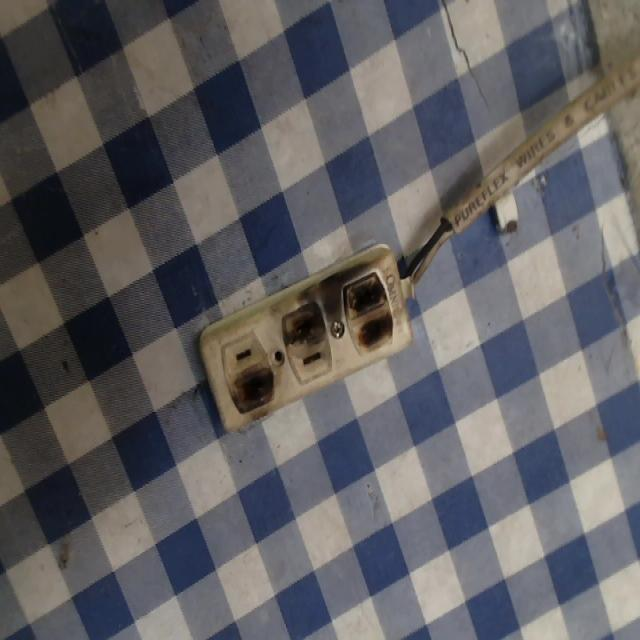-: (334, 258, 403, 362), (273, 281, 328, 348), (233, 361, 280, 420)
